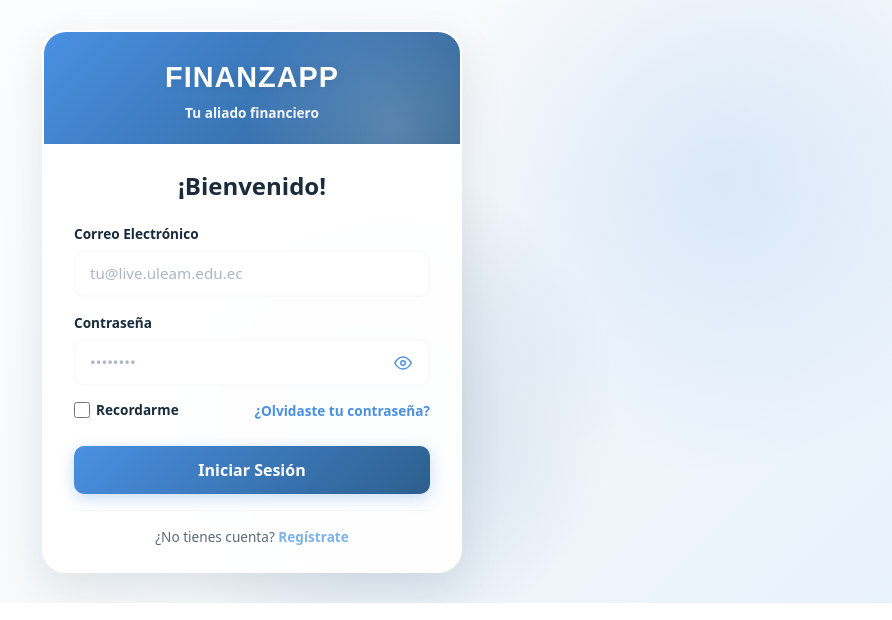
Scenario: Login.vue › Muestra el estado de carga mientras se procesa el login
Llenar el formulario con datos válidos
In the field with test id "email": (252,273) [74, 250, 430, 297], type "e1315844983@live.uleam.edu.ec"
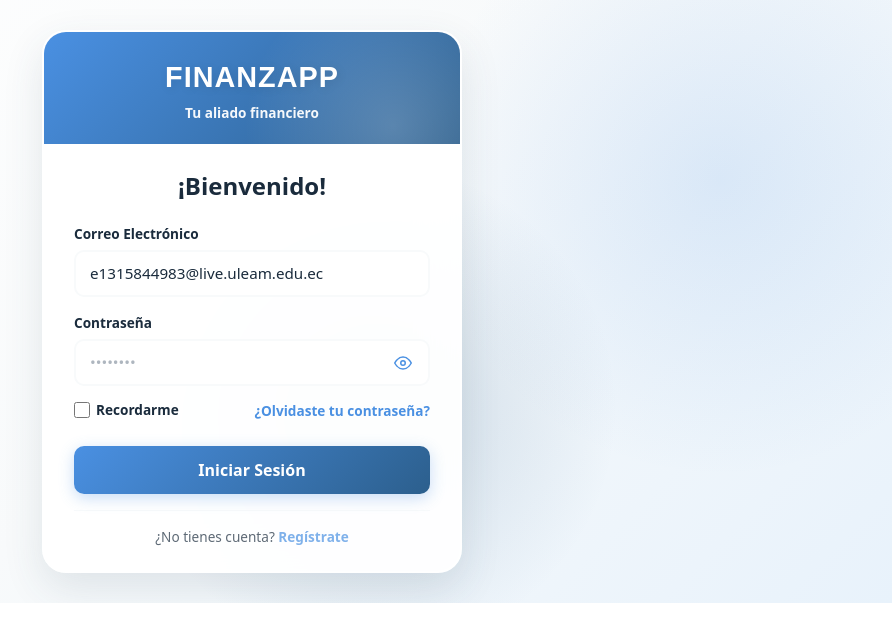
In the password field with test id "password": (252,362) [74, 339, 430, 386], type "David132#"
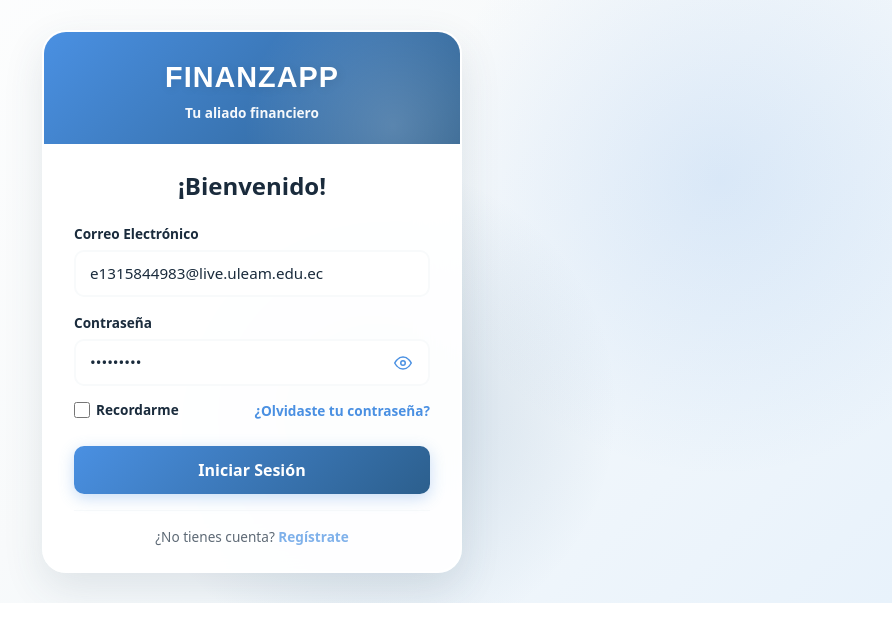
Enviar el formulario
Submit the form, box [74, 224, 430, 494]
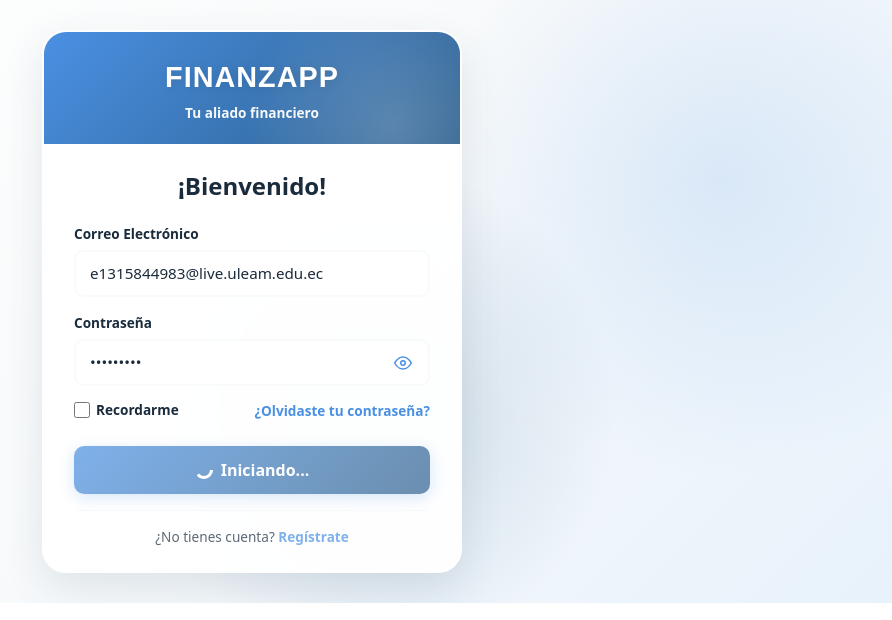
Expected: the text "Iniciando..." is shown, [195, 459, 309, 481]
